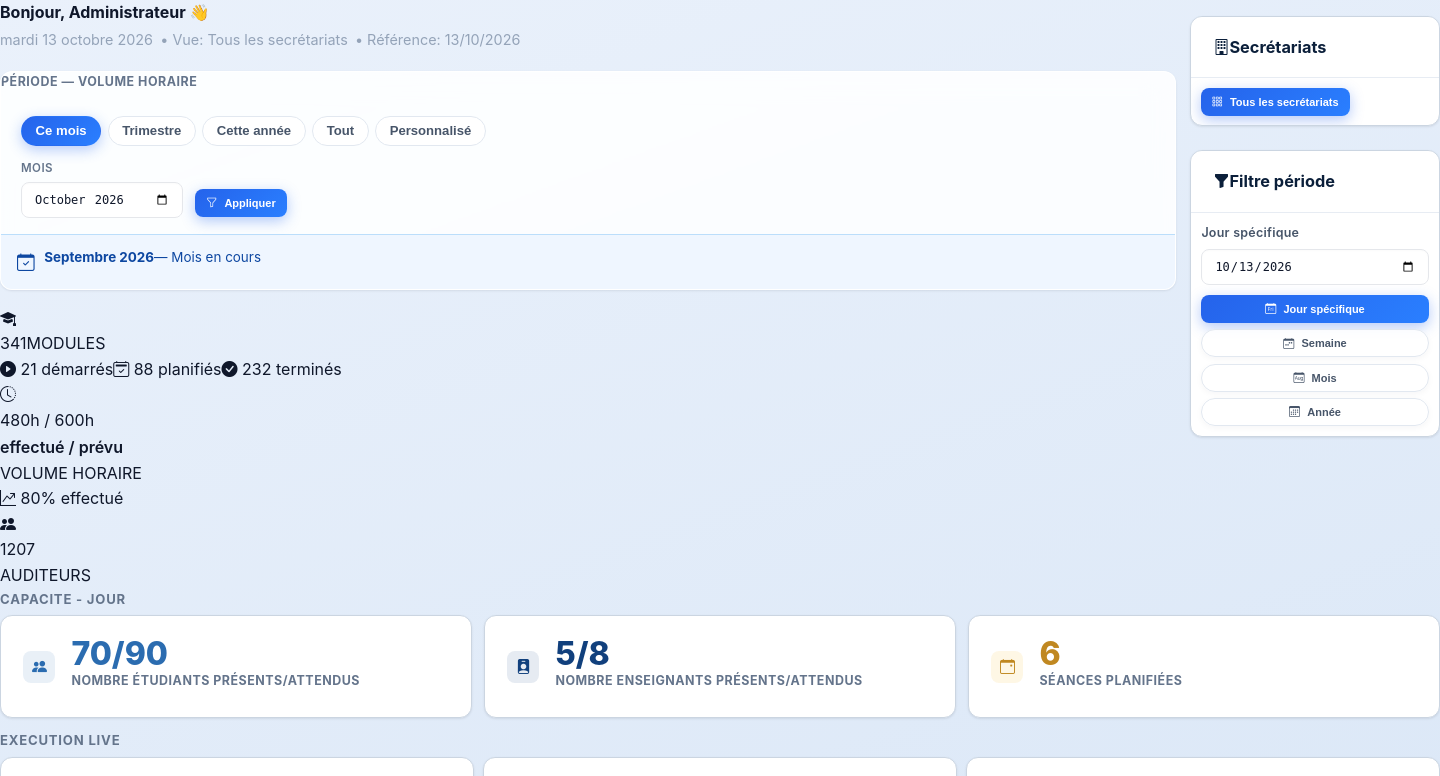
Test: pages/Dashboard.jsx — indicateurs et tableaux avec données riches › applique les seuils d’absence (jaune puis rouge) et le repli de taux sur les autres périodes
Expected: the text "341" is shown, [0,333,26,353]
Click the button "Semaine": (1315, 343) [1201,329,1429,357]
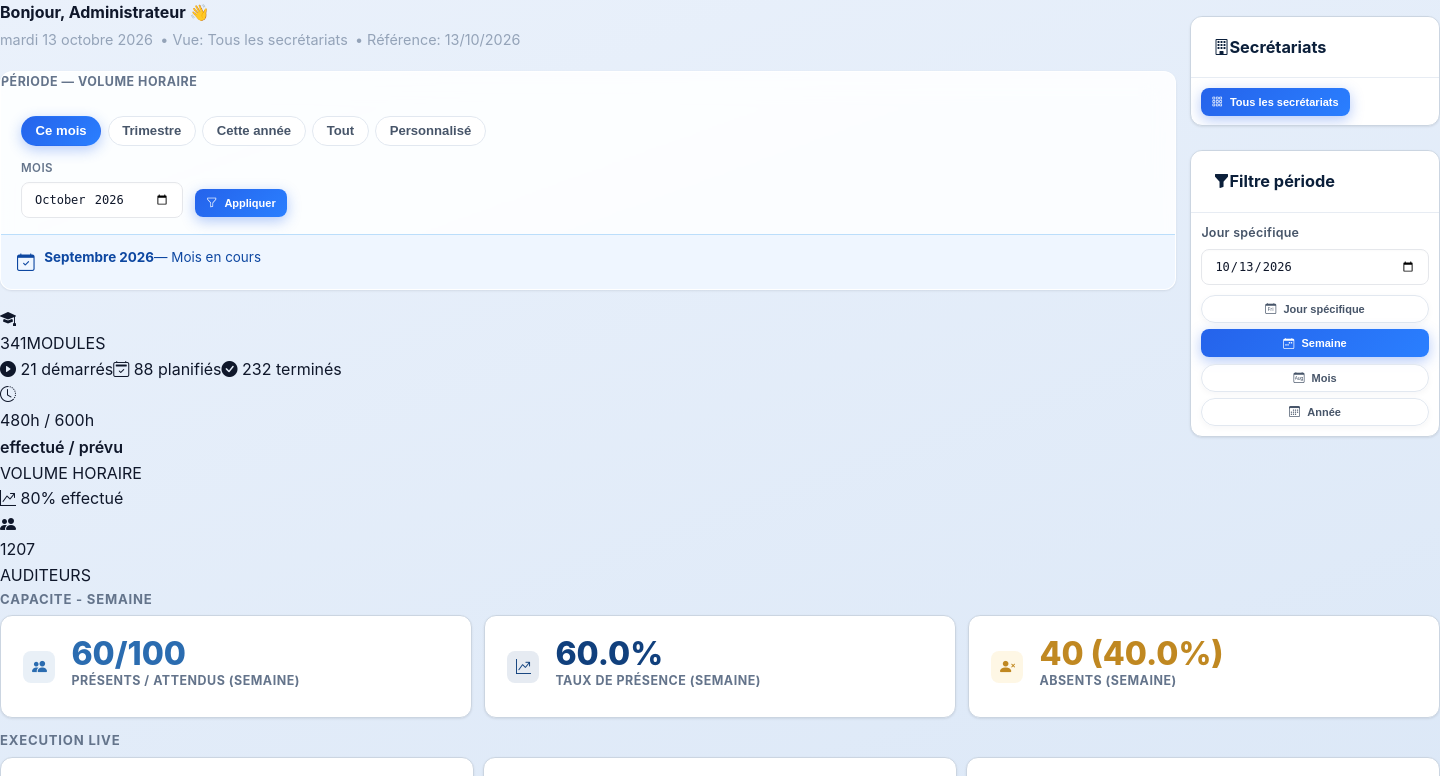
Click the button "Mois": (1315, 378) [1201,364,1429,392]
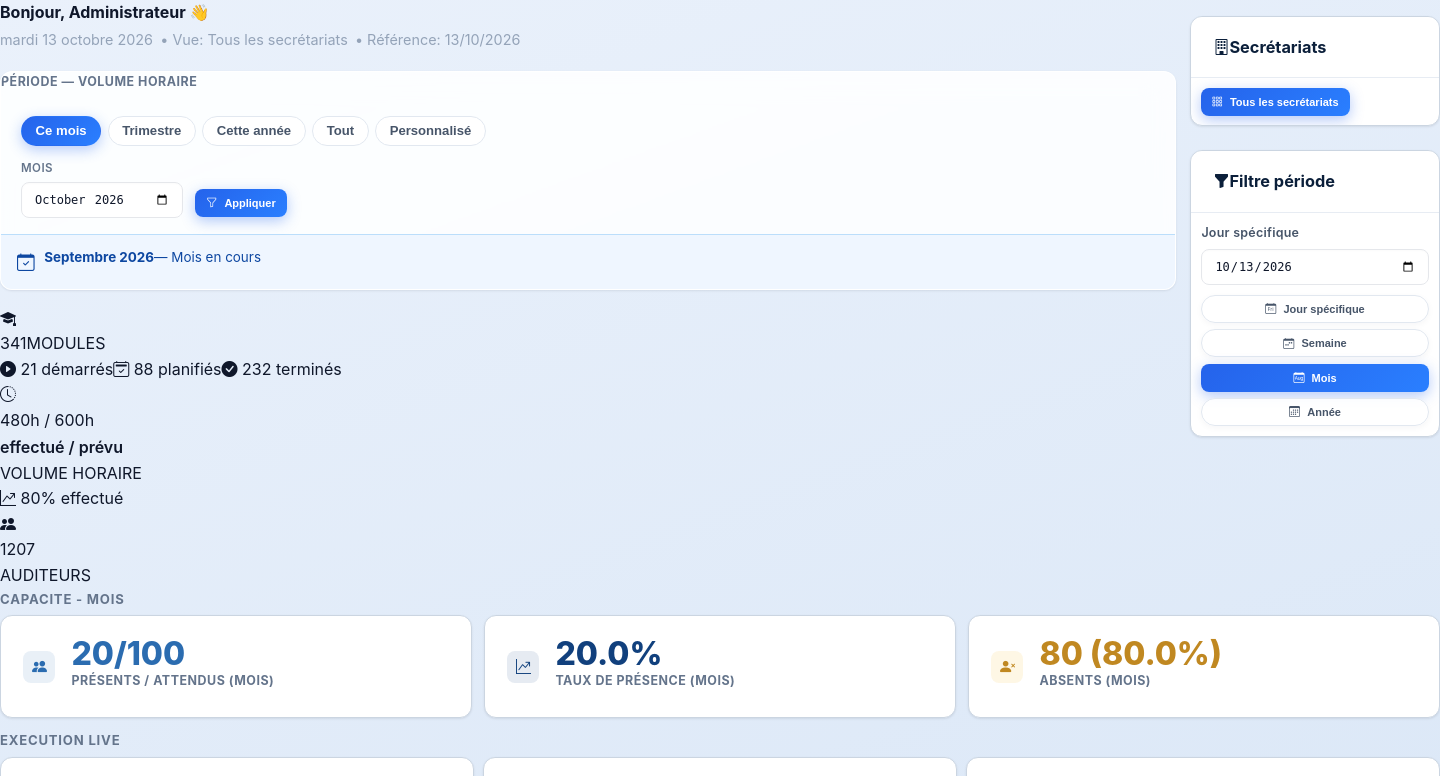
Click the button "Année": (1315, 412) [1201,398,1429,426]
(page scrolled)
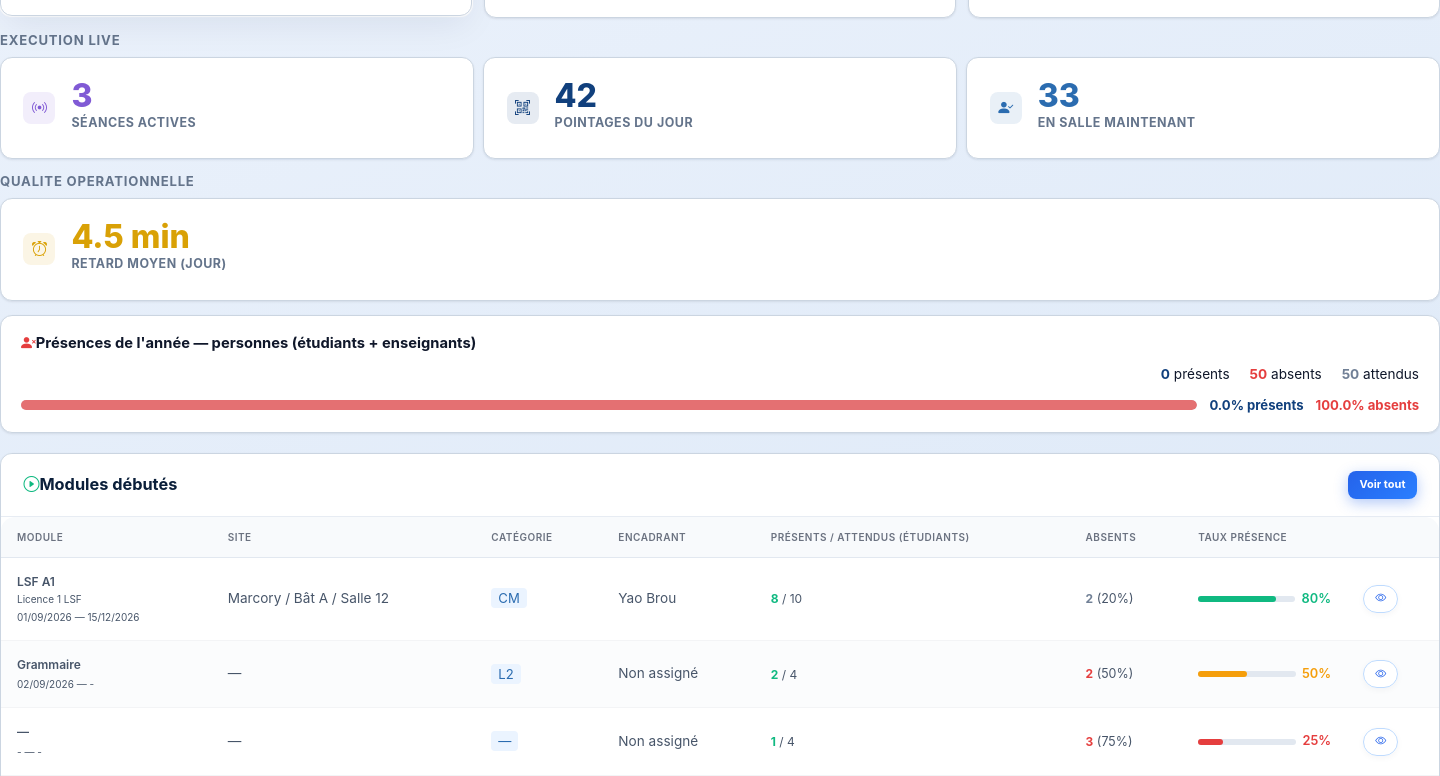
Expected: the text "Présences de l'année — personnes (étudiants + enseignants)" is shown, [21,332,476,356]
Expected: the text "100.0% absents" is shown, [1316,395,1419,416]
